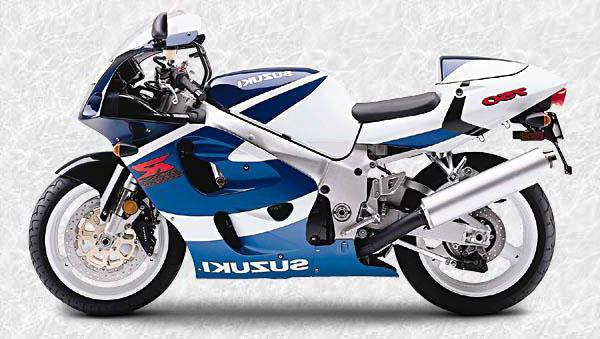motorcycle: (2, 5, 588, 326)
